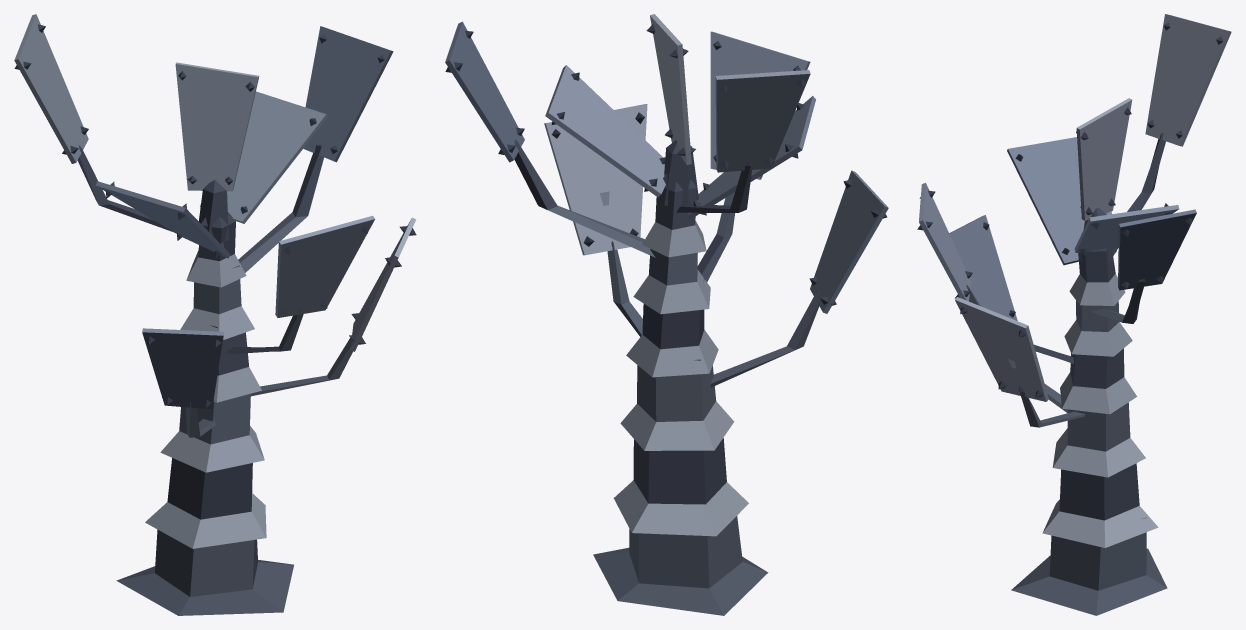
The model's file is Steelbark_Tree.glb.
3 renders of one model, left to right at view 1: azimuth 30°, elevation 25°; view 2: azimuth 150°, elevation 25°; view 3: azimuth 270°, elevation 25°, orthographic. The views are drawn at different scales.
Parts seen in each view (by area): view 1: Steelbark_Tree; view 2: Steelbark_Tree; view 3: Steelbark_Tree.
Part boxes in pixels (x1,y1,x2,y2): Steelbark_Tree: (14, 14, 416, 615); Steelbark_Tree: (445, 14, 888, 615); Steelbark_Tree: (917, 14, 1231, 615).
Size of the model in its own units: 7.12 by 10.46 by 5.95.
